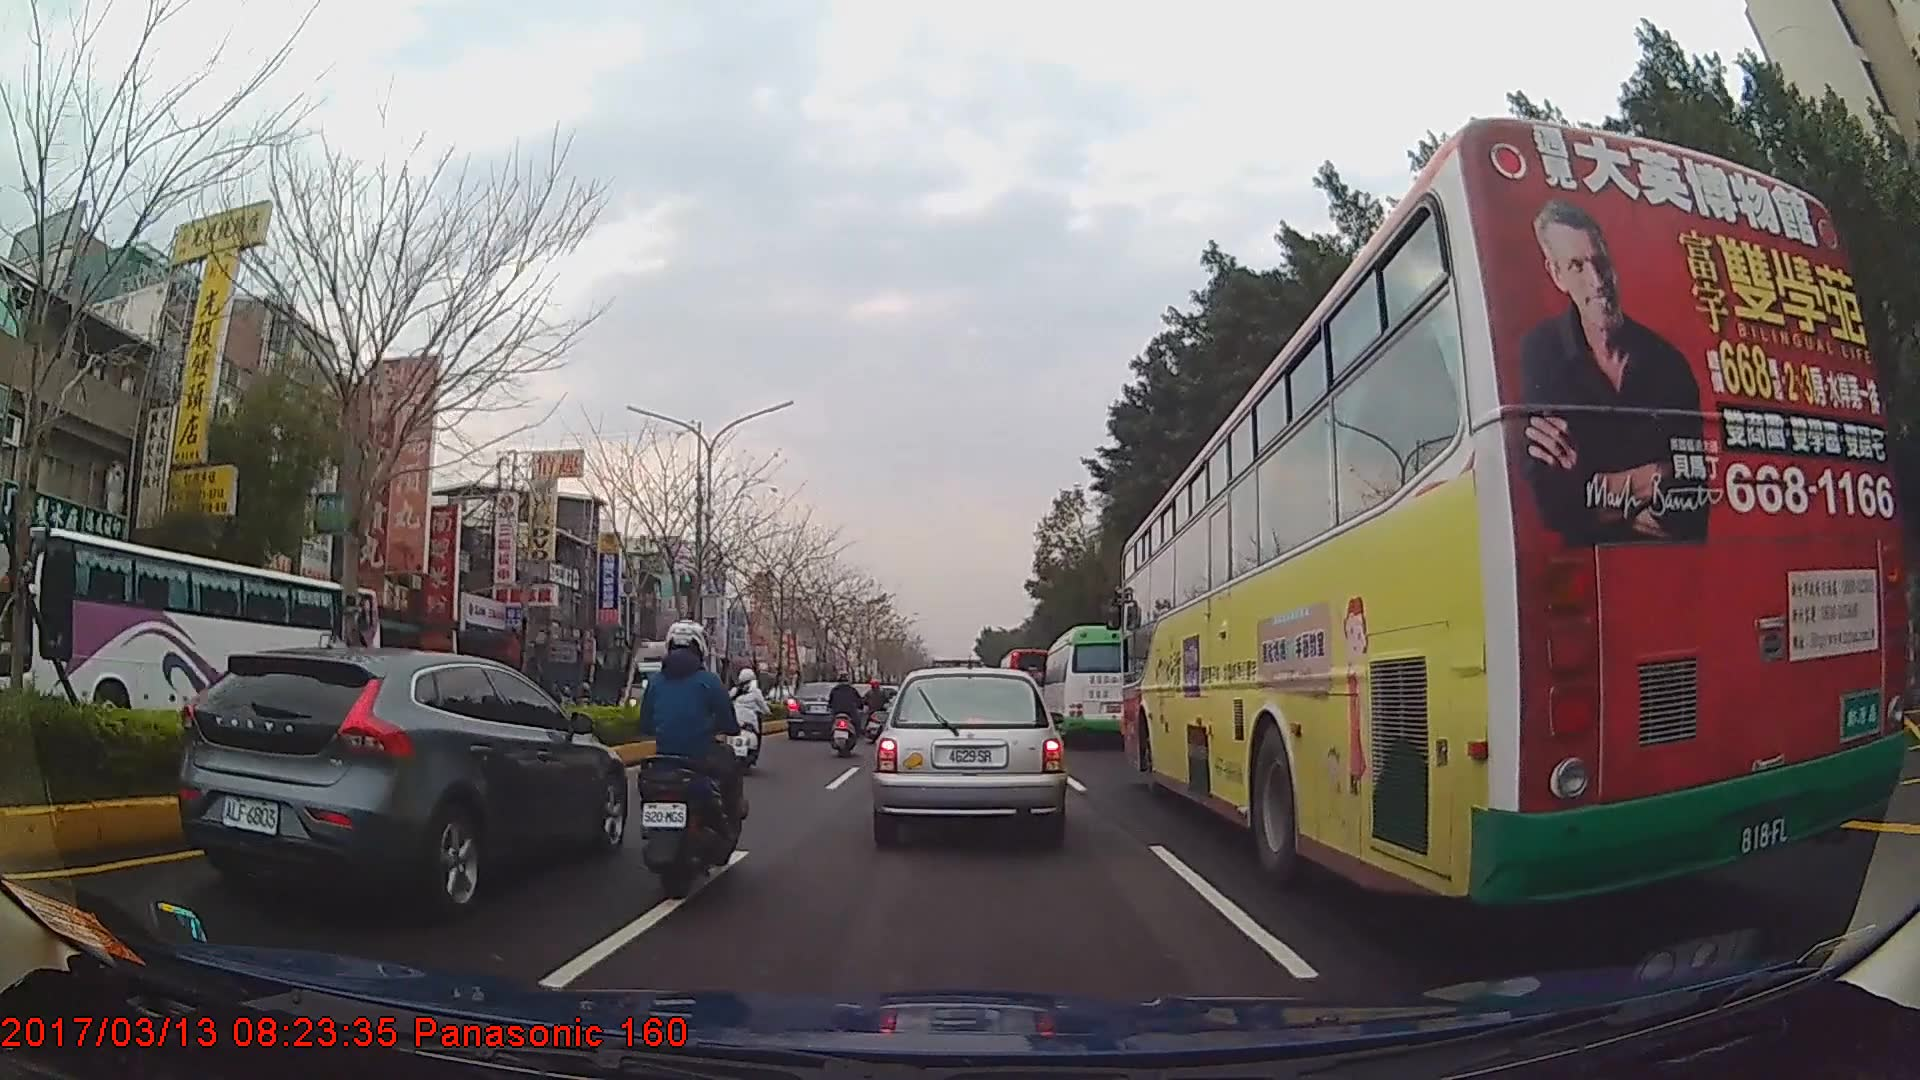rider: (639, 621, 745, 897), (722, 669, 771, 780), (829, 670, 866, 752), (861, 679, 890, 741)
vehicle: (1121, 115, 1909, 922), (176, 645, 632, 921), (15, 524, 378, 766), (874, 669, 1068, 848), (1044, 627, 1157, 751), (786, 679, 867, 739), (998, 647, 1057, 723)
